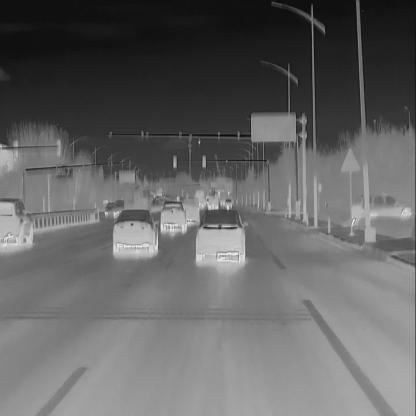car: (195, 210, 247, 265), (112, 208, 160, 252), (0, 196, 34, 248), (159, 200, 188, 232), (180, 195, 201, 226), (103, 200, 116, 218), (112, 197, 124, 215), (224, 196, 233, 210)
truck: (193, 187, 206, 210), (206, 188, 219, 210)
